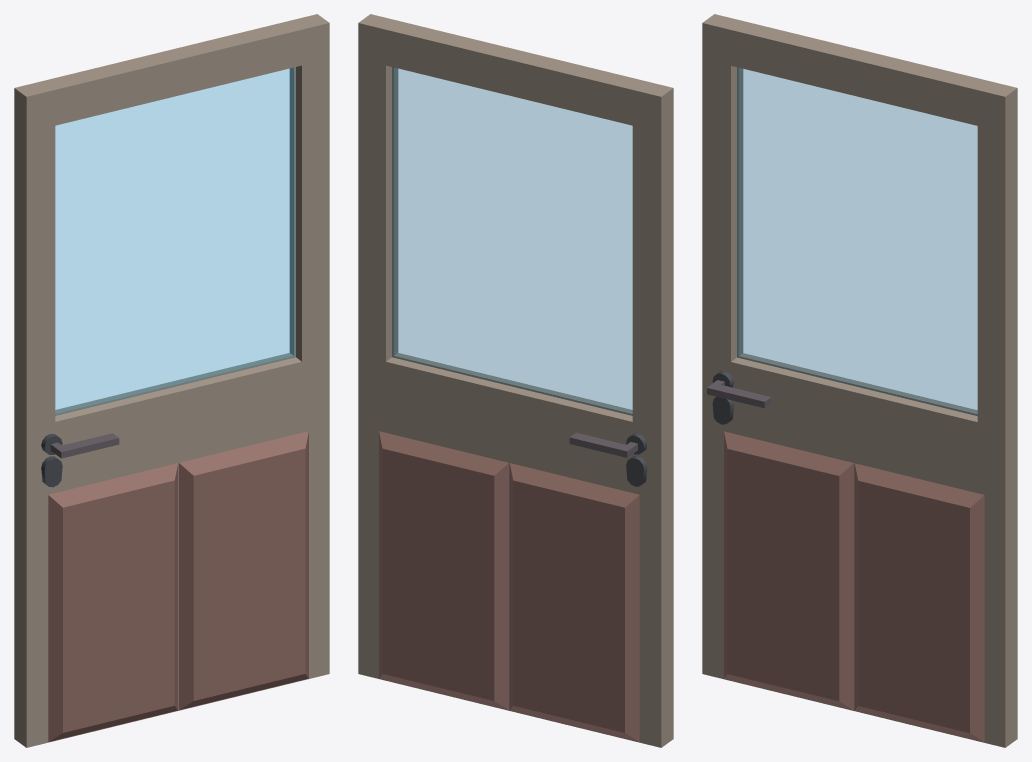
File: SM_door_01.fbx
3 views of the same model, side by side, from view 1: azimuth 30°, elevation 25°; view 2: azimuth 150°, elevation 25°; view 3: azimuth 330°, elevation 25° (orthographic).
Parts seen in each view (by area): view 1: door_01; view 2: door_01; view 3: door_01.
Part boxes in pixels (x1=…): door_01: x1=14, y1=14, x2=329, y2=747; door_01: x1=358, y1=14, x2=673, y2=747; door_01: x1=702, y1=14, x2=1017, y2=747.
Bounding box in the file's own units: 112 × 230 × 26.75.
